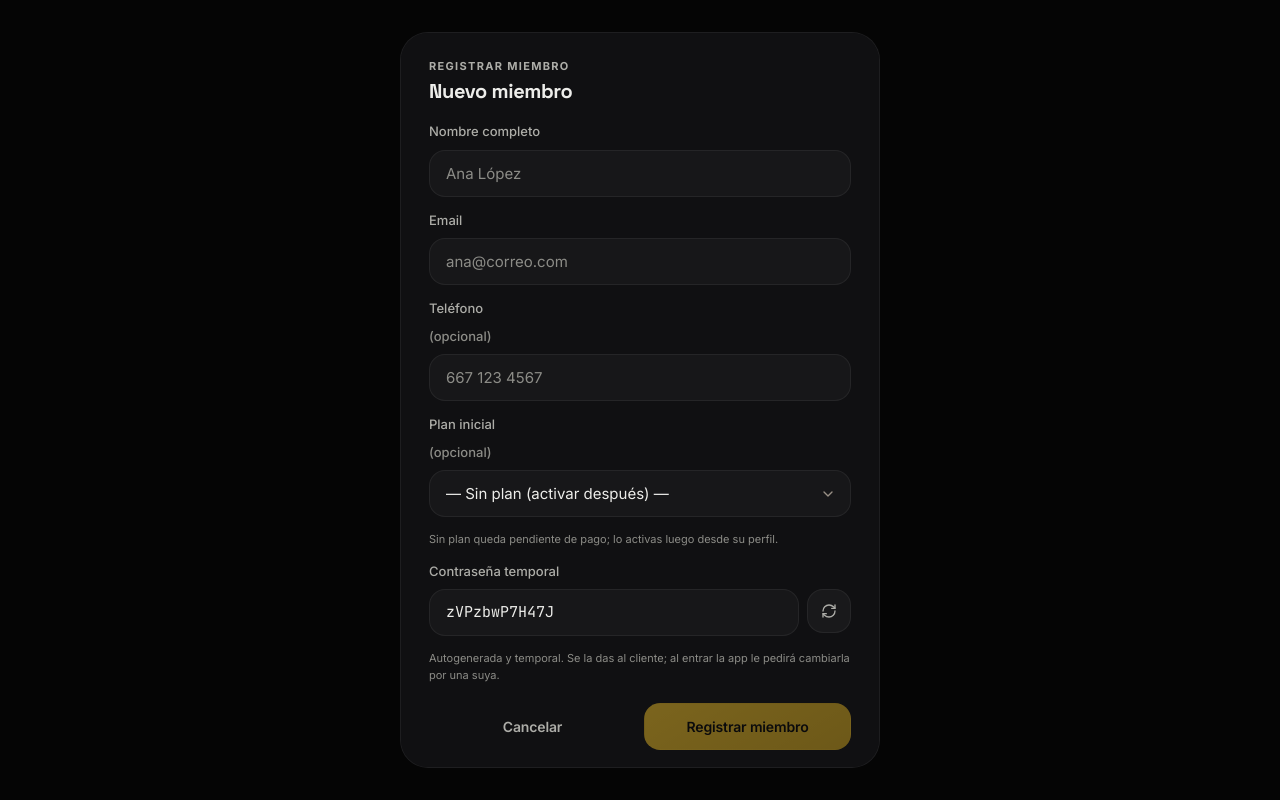
Scenario: RegistrarMiembroModal · venta de mostrador (PKG-01D) › cortesía se muestra como $0 cobrado sin perder el precio de lista
The width and height of the screenshot is (1280, 800).
Select "Pro" in the dropdown labelled "Plan inicial (opcional)" at (640, 494), box [429,470,851,517]
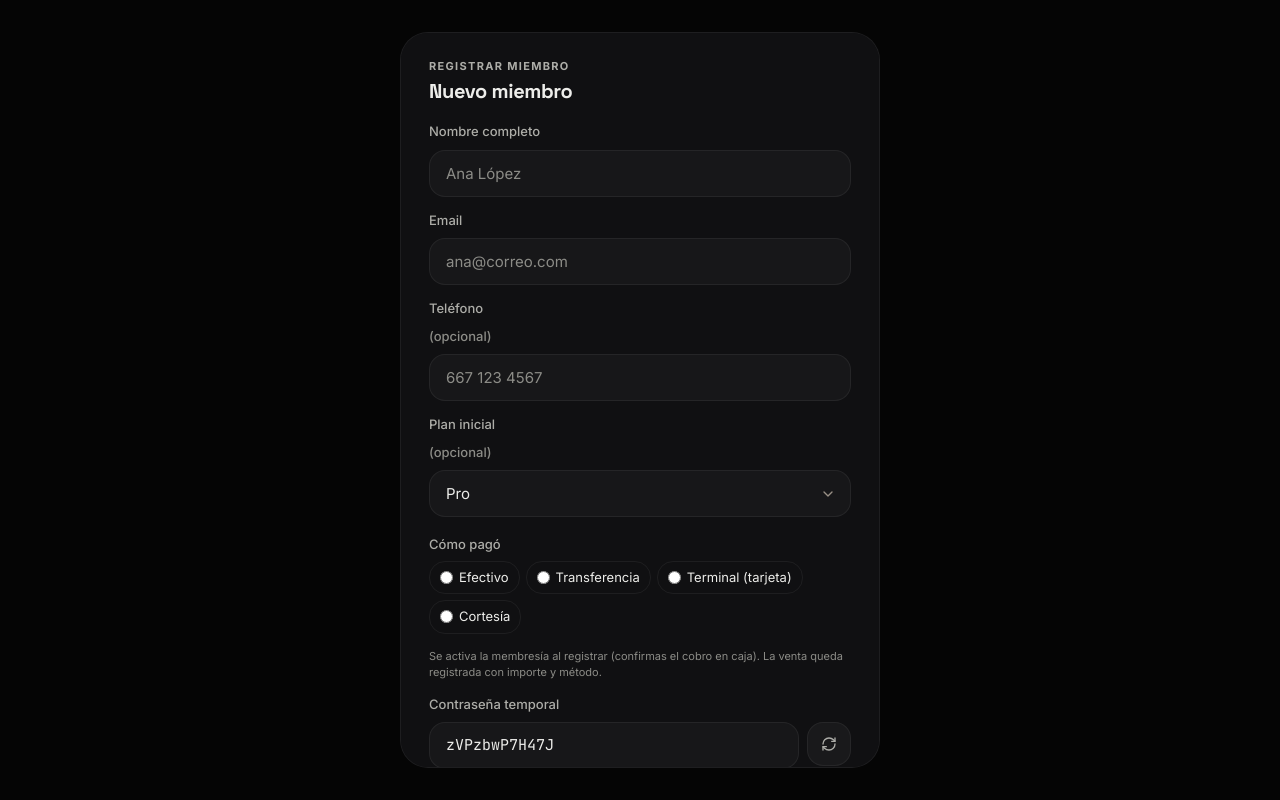
Click the radio button labelled "Cortesía" at (446, 617), box [440,610,453,623]
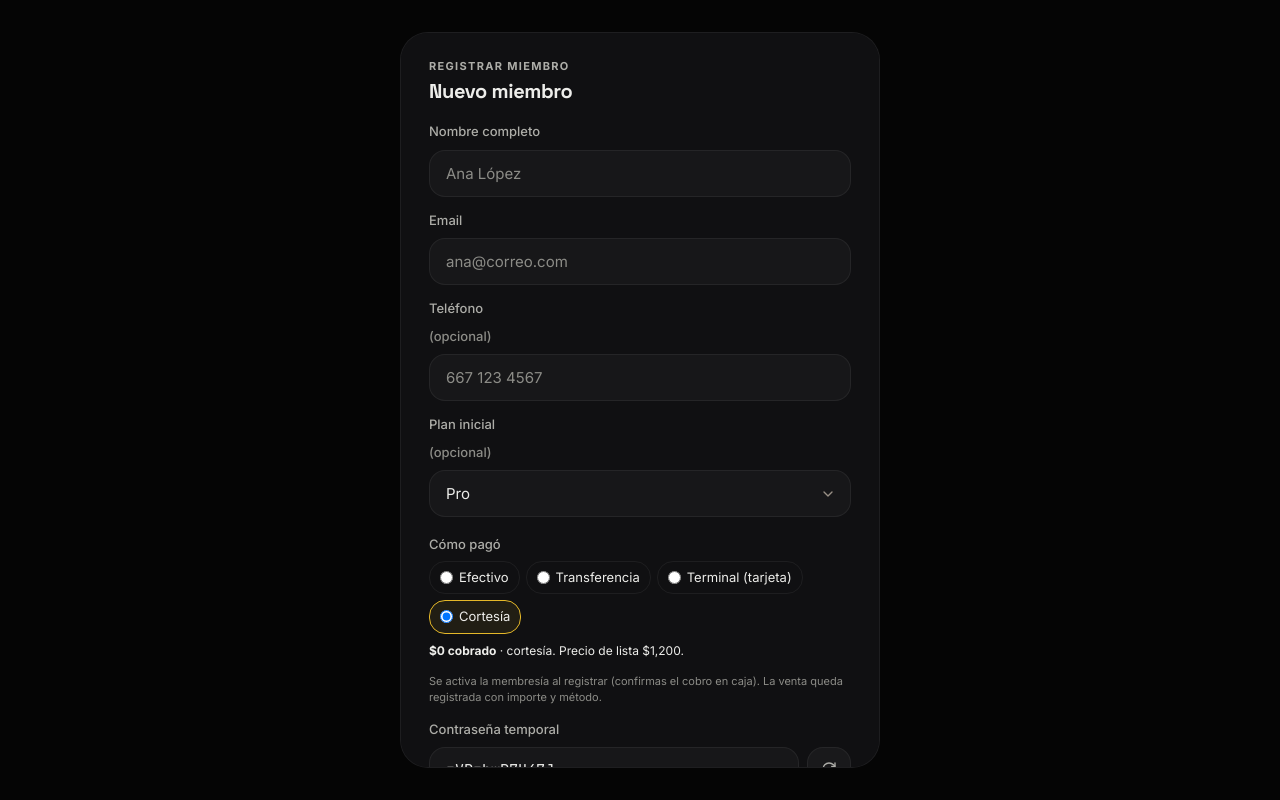
Result: the element with test id "resumen-cobro" shows "$0 cobrado" at [429,642,496,658]
Result: the element with test id "resumen-cobro" shows "Precio de lista $1,200" at [429,642,684,658]
